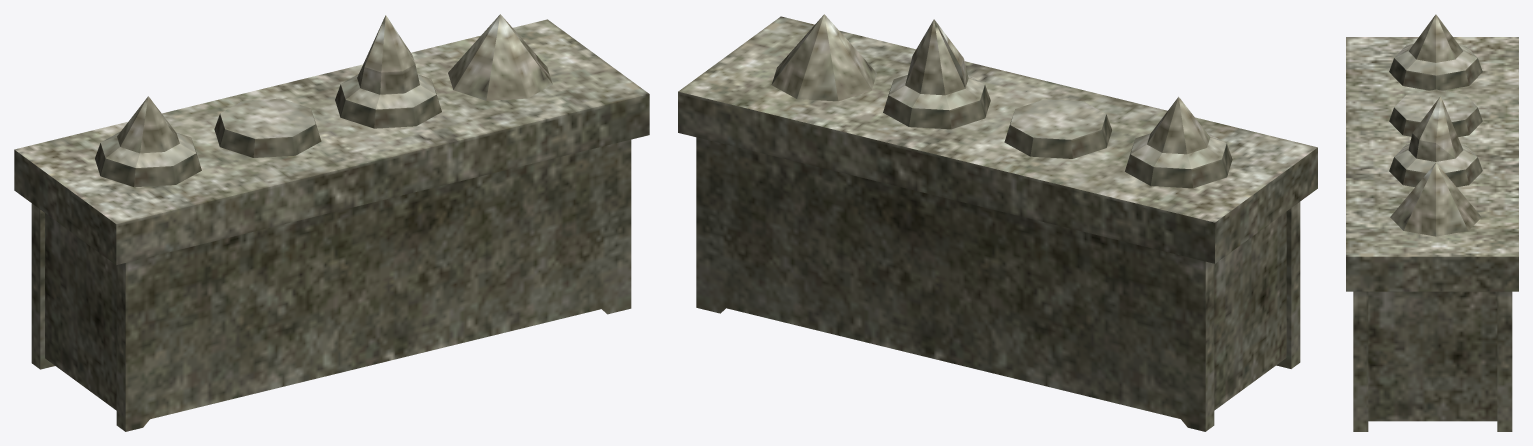
Rendered from general_obj_stonebox.fbx.
The picture shows the model from 3 angles, left to right: view 1: azimuth 30°, elevation 25°; view 2: azimuth 150°, elevation 25°; view 3: azimuth 270°, elevation 25°; orthographic projection. The views are drawn at different scales.
Visible parts, largest first — view 1: Object03; view 2: Object03; view 3: Object03.
Boxes of the visible parts, bbox=[...] form: Object03: bbox=[14, 14, 649, 431]; Object03: bbox=[678, 14, 1317, 431]; Object03: bbox=[1346, 14, 1518, 431].
Size of the model in its own units: 2.94 by 1.59 by 0.974.
